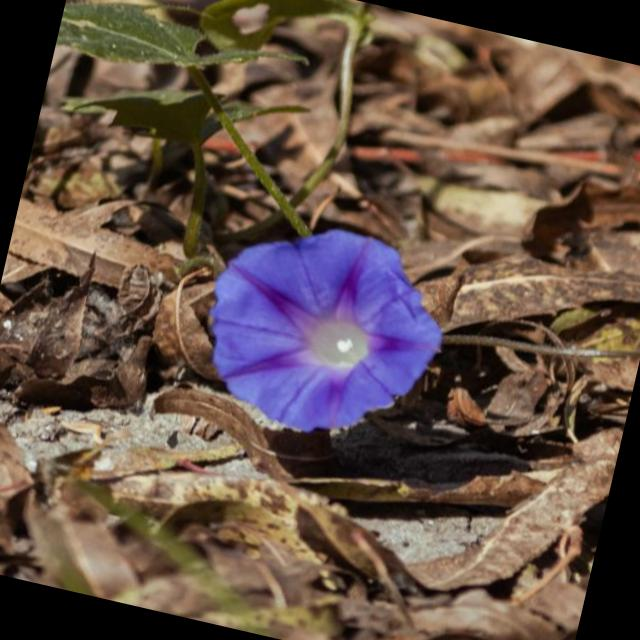ipomoea: (180, 199, 467, 463)
